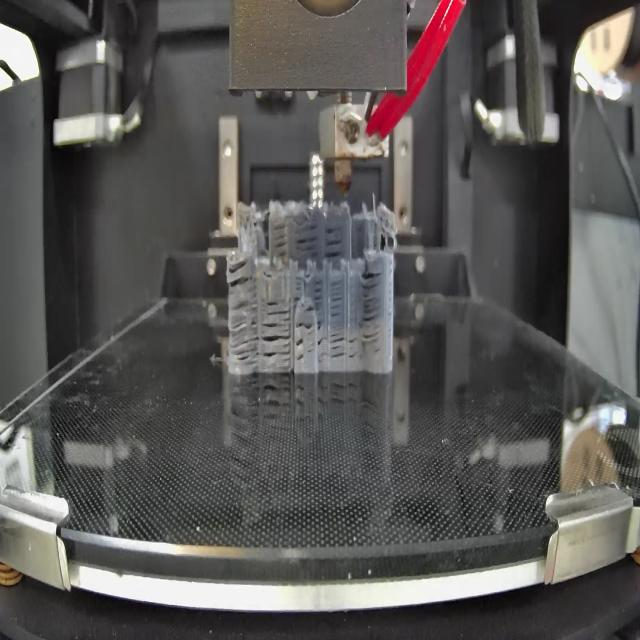cracks: (231, 299, 259, 366), (361, 268, 382, 348), (263, 321, 292, 368), (228, 258, 257, 292), (332, 329, 359, 364), (295, 222, 320, 259), (326, 224, 346, 260), (274, 220, 290, 257), (331, 277, 343, 320), (266, 298, 291, 318), (316, 319, 326, 354), (313, 276, 324, 306), (295, 337, 305, 367), (295, 320, 316, 332), (294, 276, 302, 304), (304, 304, 316, 312)
